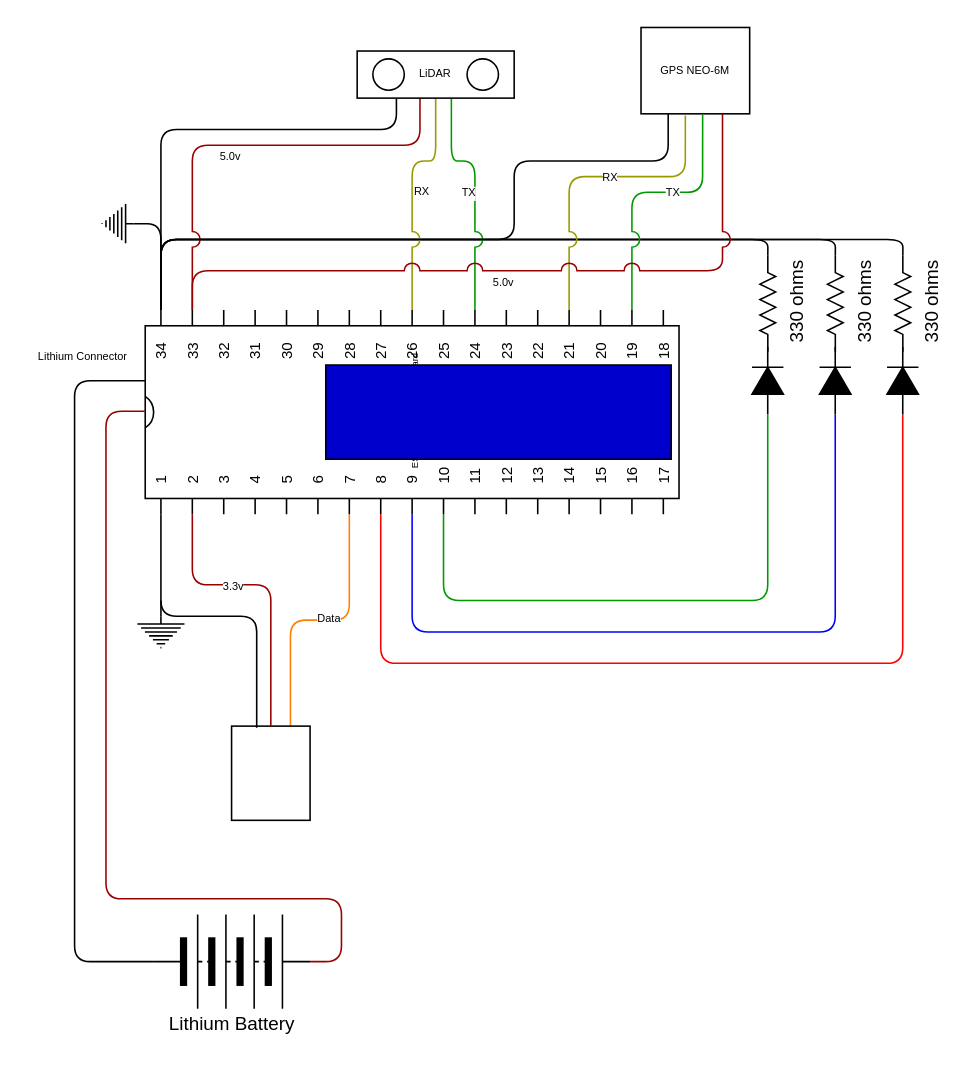
Image size: 970x1068. Some labels were removed from this diagram. Here are the shapes that lost their labels. From the top down, the centre of each, then its label:
(497,411): OLED Display
(270,772): DHT-22
